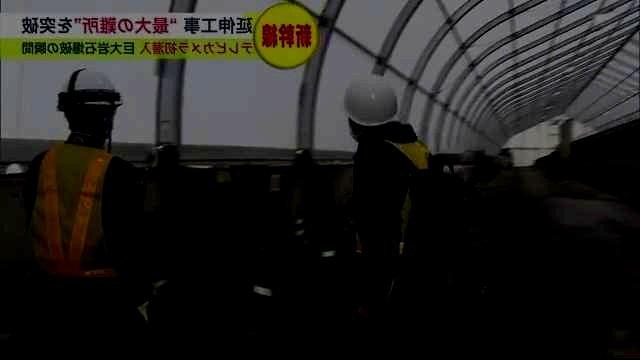helmet: (56, 68, 124, 140), (342, 74, 399, 142)
